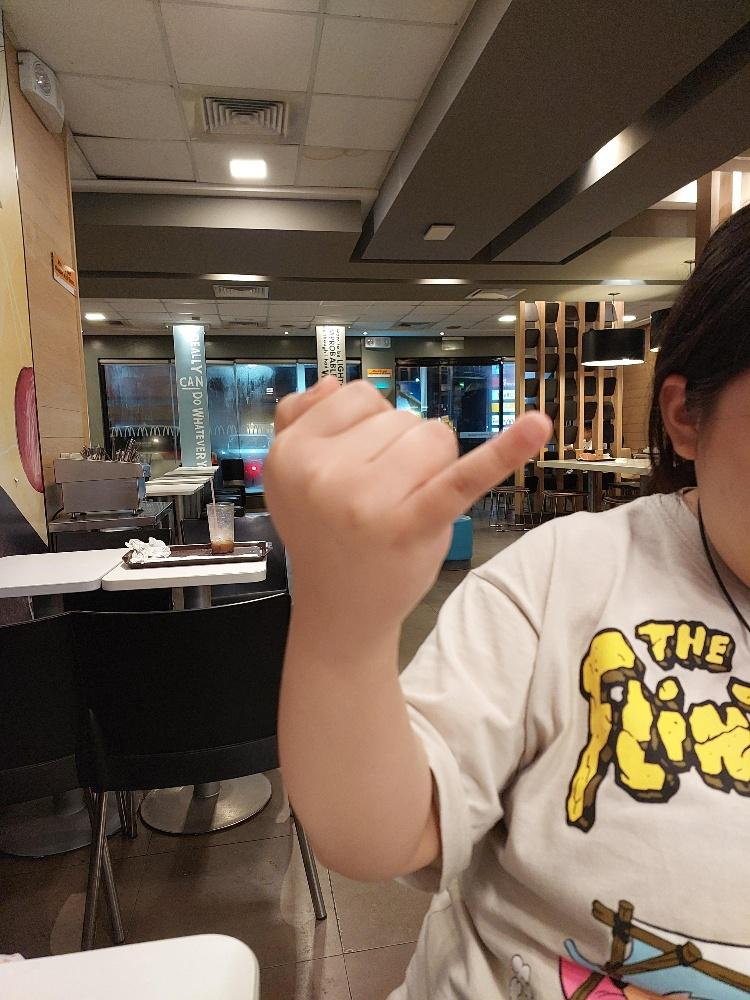j: (261, 372, 554, 636)
